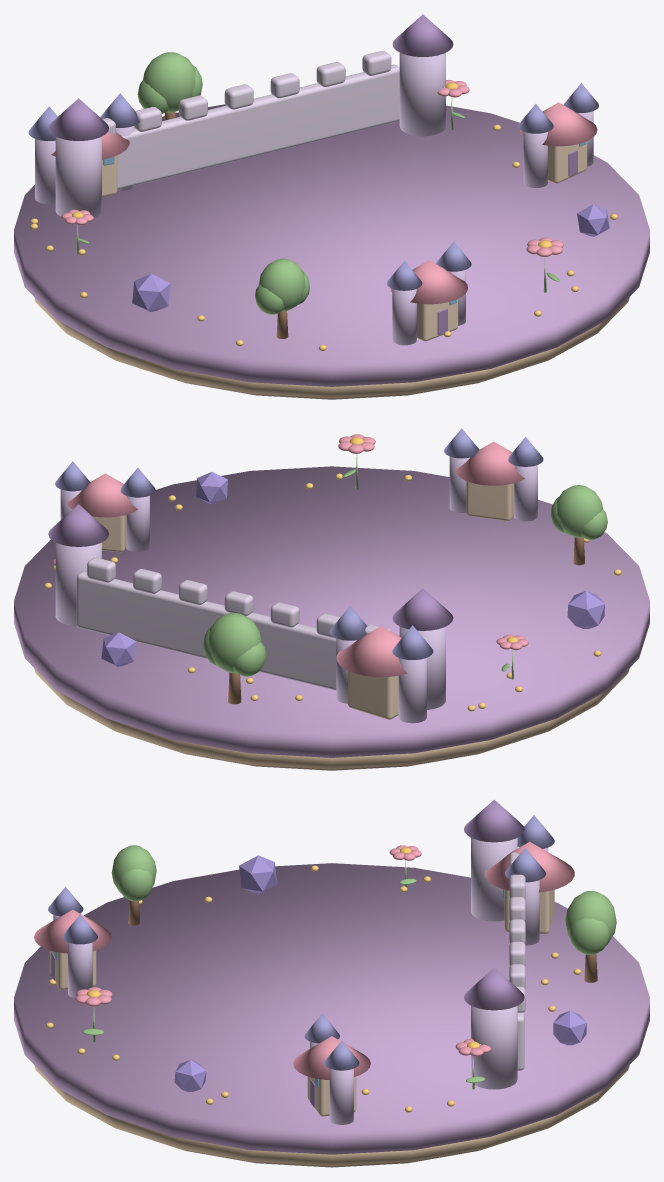
File: world.glb
3 views of the same model, one above another, from view 1: azimuth 30°, elevation 25°; view 2: azimuth 150°, elevation 25°; view 3: azimuth 270°, elevation 25° (orthographic).
Parts seen in each view (by area): view 1: Cone, Cube, Cone.001, castle.003, castle.001, castle.002, Cone.005, Cone.003, tree.001, tree.002, Cone.004, Cone.006 (+9 smaller); view 2: Cone, Cube, castle.002, castle.003, Cone.001, castle.001, tree.001, tree.002, Cone.005, Cone.006, Cone.004, Cone.003 (+11 smaller); view 3: Cone, Cone.001, castle.002, castle.001, castle.003, Cone.005, tree.001, Cone.003, tree.002, Cone.004, Cone.006, gem.002 (+5 smaller).
Boxes of the visible parts, left/top/right/bottom form: Cone: left=14, top=104, right=649, bottom=386; Cube: left=117, top=64, right=399, bottom=189; Cone.001: left=34, top=297, right=629, bottom=398; castle.003: left=387, top=242, right=471, bottom=345; castle.001: left=518, top=83, right=598, bottom=187; castle.002: left=28, top=93, right=139, bottom=204; Cone.005: left=399, top=53, right=445, bottom=136; Cone.003: left=55, top=136, right=101, bottom=217; tree.001: left=137, top=52, right=202, bottom=120; tree.002: left=255, top=258, right=309, bottom=338; Cone.004: left=48, top=98, right=108, bottom=140; Cone.006: left=392, top=14, right=453, bottom=56; Cone: left=14, top=466, right=649, bottom=757; Cube: left=76, top=571, right=336, bottom=690; castle.002: left=329, top=606, right=433, bottom=723; castle.003: left=444, top=428, right=543, bottom=521; Cone.001: left=34, top=668, right=629, bottom=769; castle.001: left=55, top=461, right=155, bottom=552; tree.001: left=203, top=612, right=266, bottom=704; tree.002: left=550, top=485, right=607, bottom=565; Cone.005: left=55, top=542, right=101, bottom=625; Cone.006: left=48, top=504, right=108, bottom=546; Cone.004: left=392, top=588, right=453, bottom=630; Cone.003: left=399, top=626, right=445, bottom=709; Cone: left=14, top=863, right=649, bottom=1154; Cone.001: left=34, top=1065, right=629, bottom=1166; castle.002: left=485, top=815, right=574, bottom=945; castle.001: left=293, top=1013, right=370, bottom=1124; castle.003: left=34, top=886, right=111, bottom=998; Cone.005: left=471, top=1006, right=517, bottom=1089; tree.001: left=565, top=891, right=616, bottom=982; Cone.003: left=471, top=838, right=517, bottom=921; tree.002: left=111, top=845, right=156, bottom=925; Cone.004: left=464, top=799, right=524, bottom=842; Cone.006: left=464, top=967, right=524, bottom=1010; gem.002: left=239, top=855, right=277, bottom=893.
Size of the model in its own units: 9.6 by 2.67 by 9.6.
